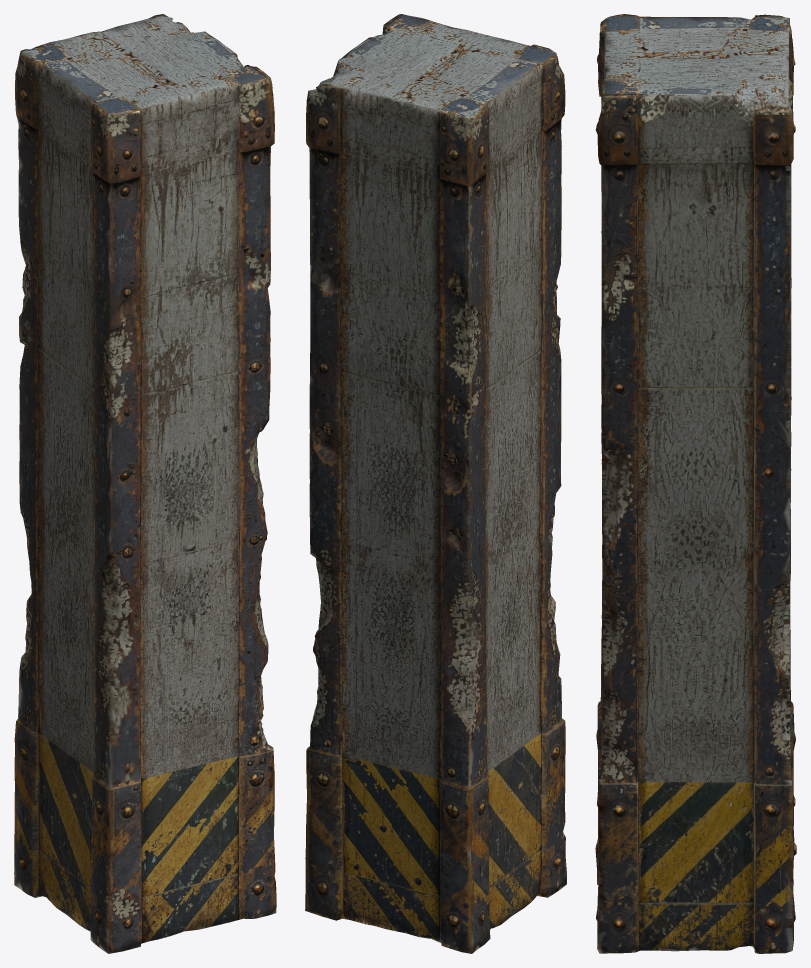
The model's file is BK_Pillar.fbx.
3 views of the same model, side by side, from view 1: azimuth 30°, elevation 25°; view 2: azimuth 150°, elevation 25°; view 3: azimuth 270°, elevation 25° (orthographic). The views are drawn at different scales.
Visible parts, largest first — view 1: texture_mapping; view 2: texture_mapping; view 3: texture_mapping.
Part boxes in pixels (x1,y1,x2,y2): texture_mapping: (14,14,276,953); texture_mapping: (305,14,566,953); texture_mapping: (595,14,796,953).
Size of the model in its own units: 0.2159 by 0.2119 by 0.9971.
1 material, 1 textured.
